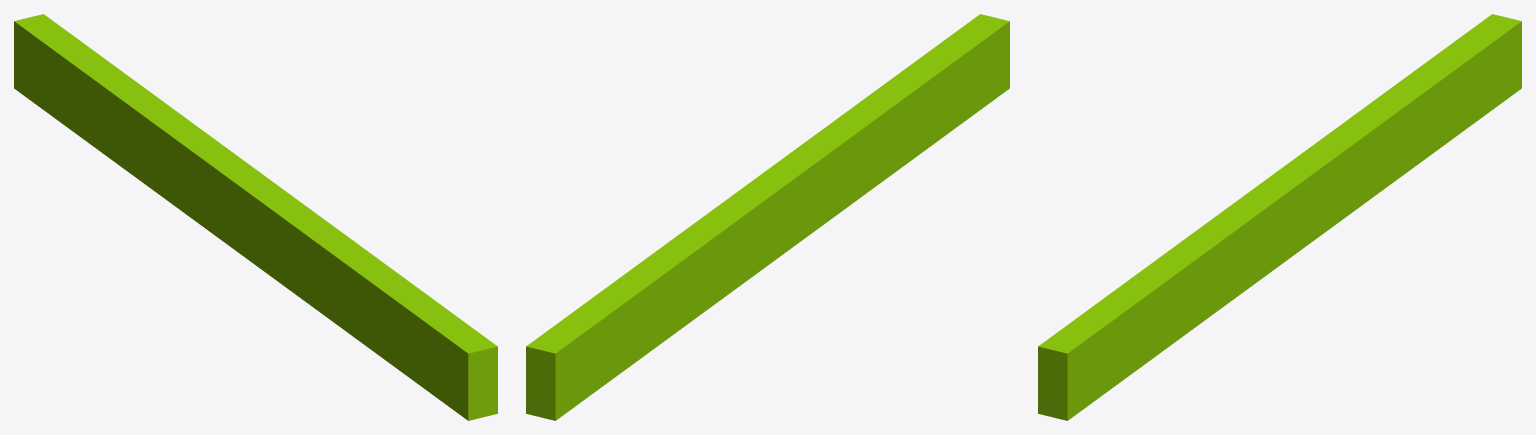
The model's file is simple_example_hole_part_63.obj.
3 renders of one model, left to right at view 1: azimuth 30°, elevation 25°; view 2: azimuth 150°, elevation 25°; view 3: azimuth 330°, elevation 25°, orthographic.
Size of the model in its own units: 0.4463 by 0.9729 by 11.9.
